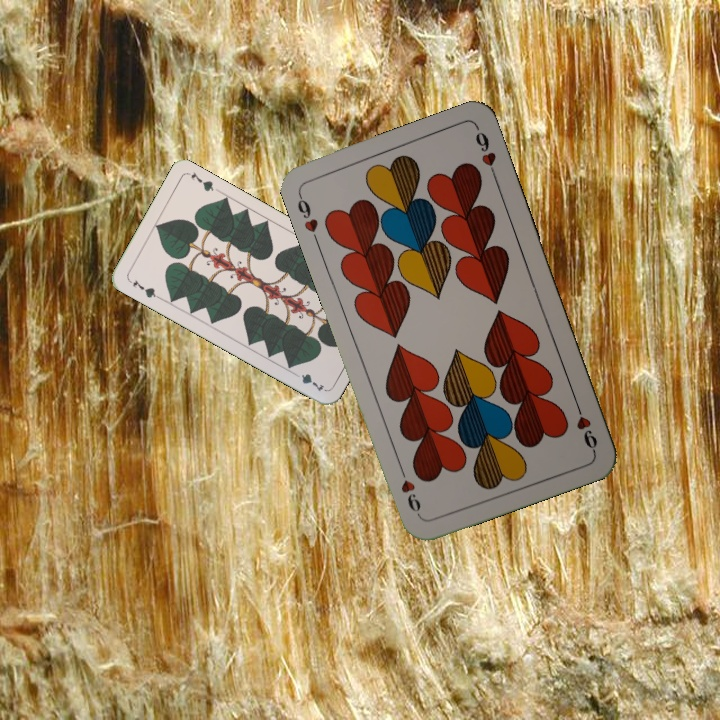G7: (125, 275, 162, 301)
H9: (571, 397, 600, 454), (293, 189, 322, 246)
